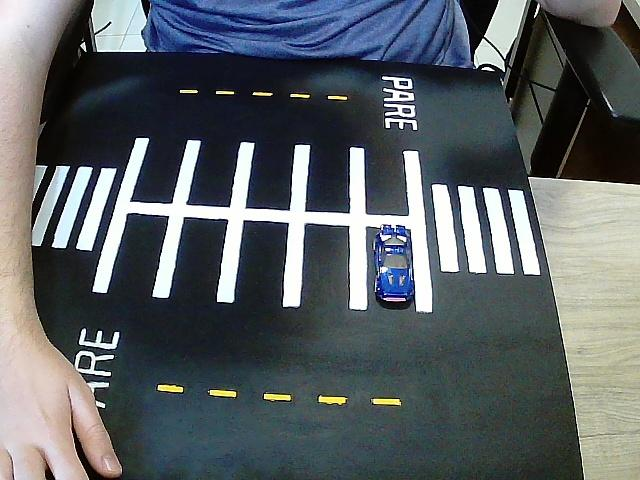Carro: (375, 225, 415, 310)
